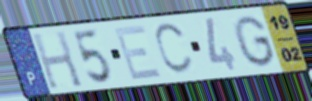4: (204, 16, 238, 75)
5: (70, 27, 113, 85)
C: (153, 21, 196, 77)
E: (112, 23, 165, 82)
G: (231, 14, 278, 69)
H: (29, 29, 86, 92)
